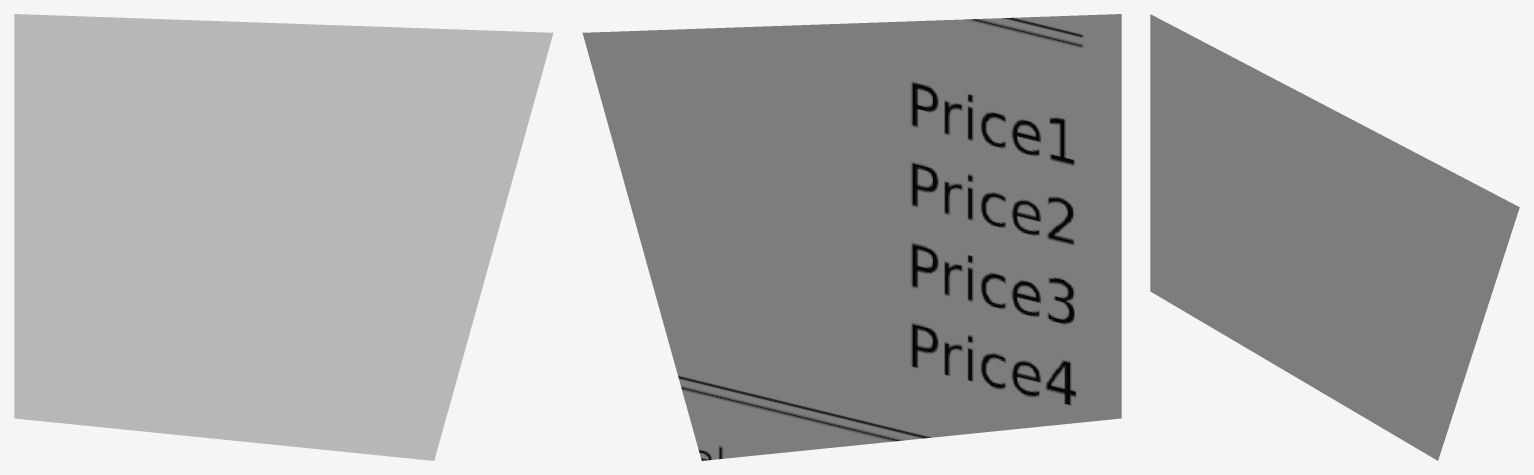
File: ReceiptPiece3.glb
3 renders of one model, left to right at view 1: azimuth 30°, elevation 25°; view 2: azimuth 150°, elevation 25°; view 3: azimuth 330°, elevation 25°, orthographic. The views are drawn at different scales.
Parts seen in each view (by area): view 1: Plane.004; view 2: Plane.004; view 3: Plane.004.
Boxes of the visible parts, left/top/right/bottom form: Plane.004: left=14, top=14, right=553, bottom=460; Plane.004: left=582, top=14, right=1121, bottom=460; Plane.004: left=1150, top=14, right=1519, bottom=460.
Bounding box in the file's own units: 0.0791 × 0.077 × 3.46e-09.
Materials: 2 (1 with a texture image).
